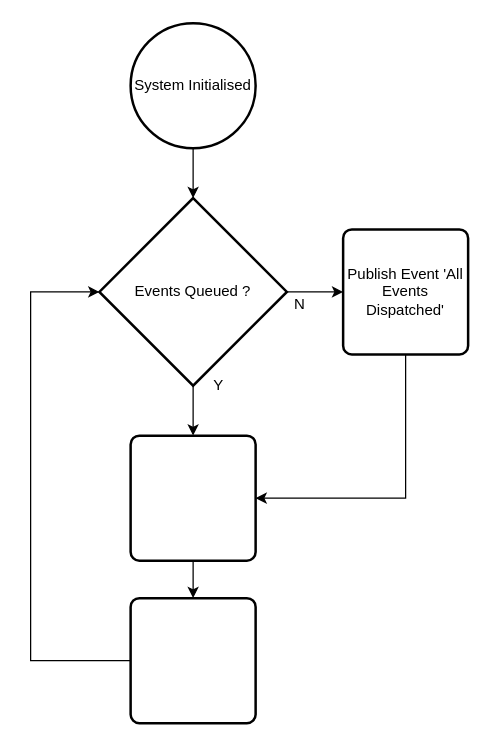
This 491x745 diagram has some shape labels left out. The shapes that lost their labels are listed below. From the top down, each one's centre as x and y in pixels, then its label:
At pixel 192 497: "Dequeue Top Event".
At pixel 192 660: "Dispatch Event".
